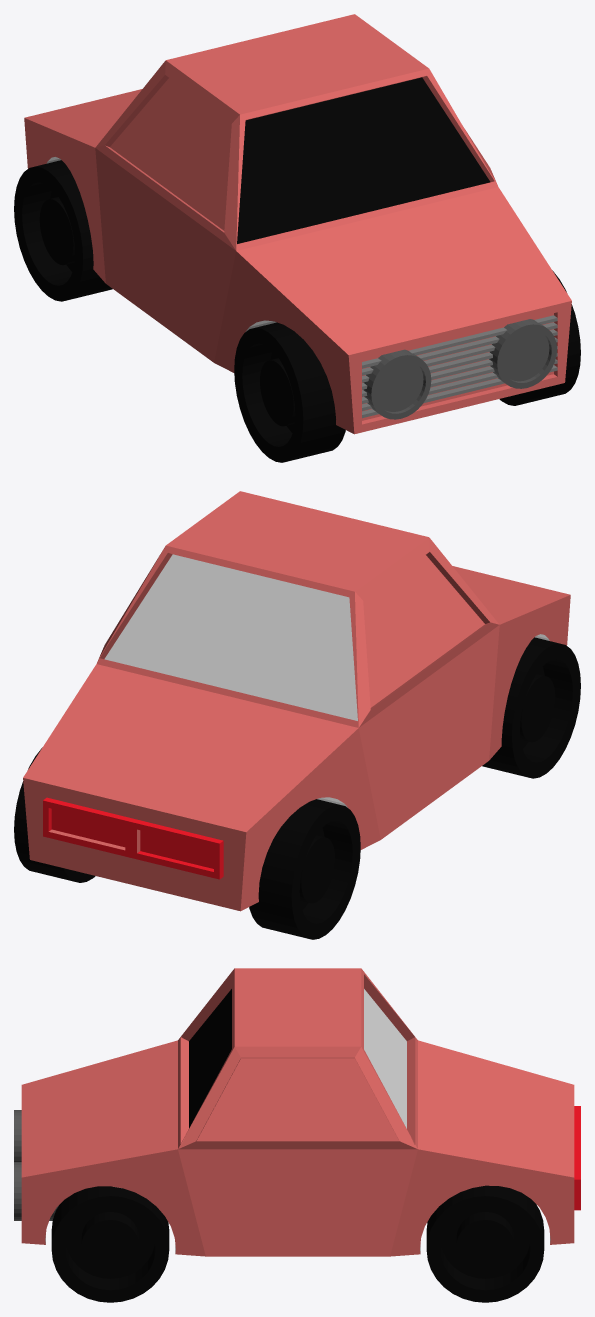
Rendered from Car1.fbx.
The picture shows the model from 3 angles, top to bottom: view 1: azimuth 30°, elevation 25°; view 2: azimuth 150°, elevation 25°; view 3: azimuth 270°, elevation 25°; orthographic projection. The views are drawn at different scales.
Visible parts, largest first — view 1: Cube.002, Cube.010, Cylinder.002, Cylinder.001, Cube.008; view 2: Cube.002, Cube.009, Cylinder.002, Cube.001; view 3: Cube.002, Cylinder.002, Cube.009, Cube.010, Cylinder.001, Cube.001.
Boxes of the visible parts, x1,y1,x2,y2 form: Cube.002: [24, 14, 571, 434]; Cube.010: [237, 77, 490, 243]; Cylinder.002: [14, 160, 580, 462]; Cylinder.001: [363, 319, 557, 419]; Cube.008: [362, 315, 557, 418]; Cube.002: [23, 491, 570, 911]; Cube.009: [104, 554, 357, 720]; Cylinder.002: [14, 637, 580, 939]; Cube.001: [43, 797, 223, 879]; Cube.002: [21, 968, 574, 1256]; Cylinder.002: [51, 1185, 544, 1302]; Cube.009: [364, 989, 406, 1128]; Cube.010: [189, 989, 231, 1127]; Cylinder.001: [14, 1110, 58, 1220]; Cube.001: [574, 1106, 580, 1210].
Bounding box in the file's own units: 202 × 194 × 420.
